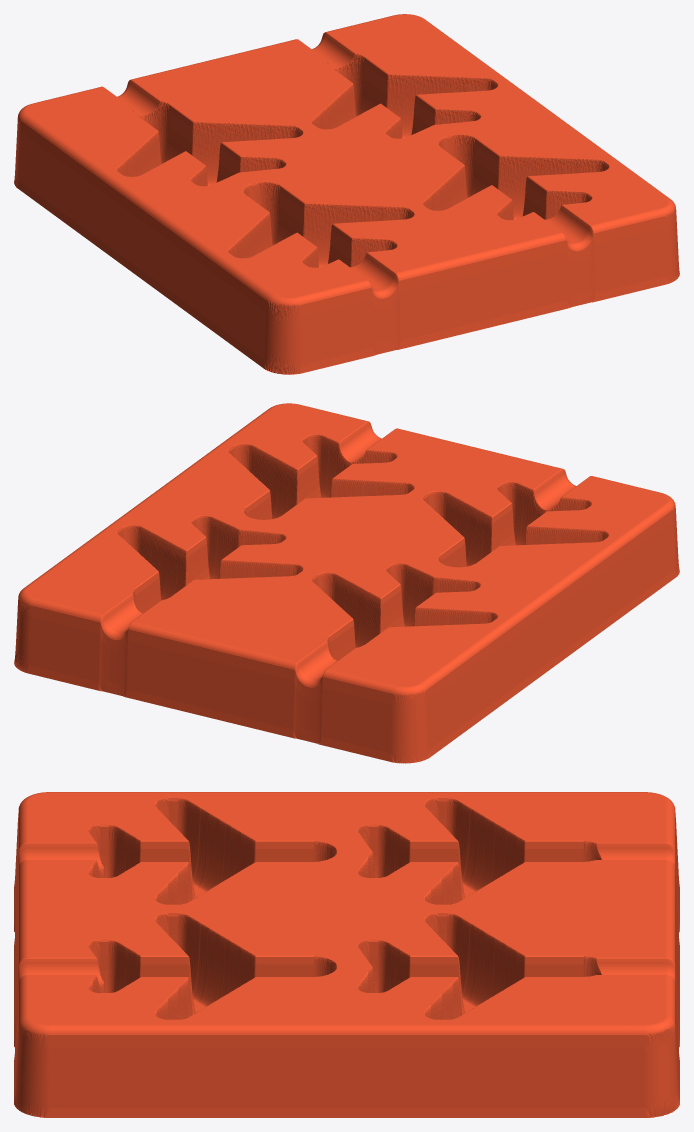
The model's file is mold.glb.
The picture shows the model from 3 angles, top to bottom: view 1: azimuth 30°, elevation 25°; view 2: azimuth 150°, elevation 25°; view 3: azimuth 270°, elevation 25°; orthographic projection. The views are drawn at different scales.
Parts seen in each view (by area): view 1: geometry_0; view 2: geometry_0; view 3: geometry_0.
Boxes of the visible parts, x1,y1,x2,y2 form: geometry_0: (14,14,679,374); geometry_0: (14,403,679,763); geometry_0: (14,792,679,1117).
Size of the model in its own units: 0.1468 by 0.0245 by 0.1695.
